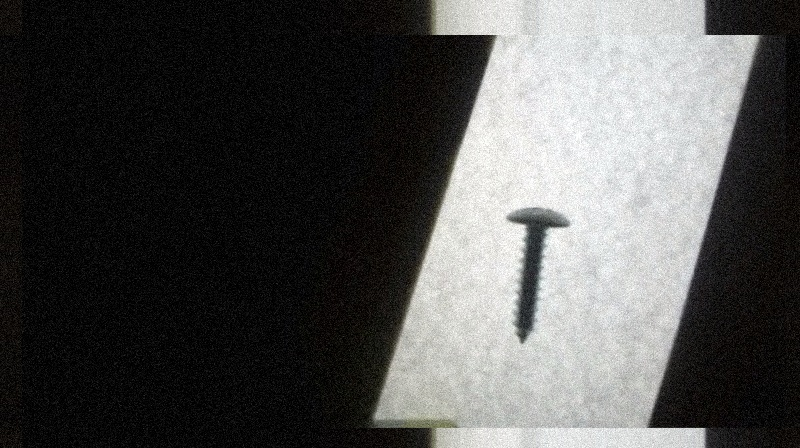S003: (502, 204, 574, 347)
